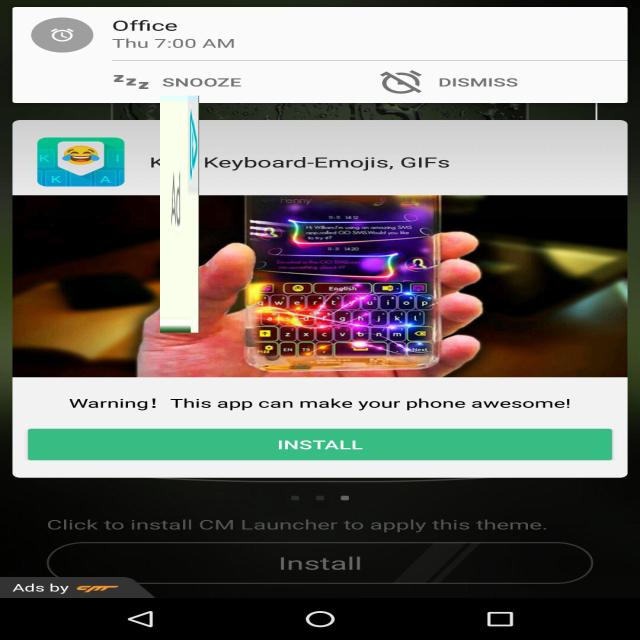sneaking: (160, 95, 199, 332)
